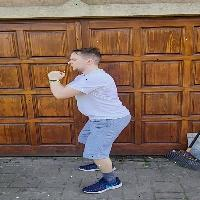squats: (45, 46, 140, 195)
